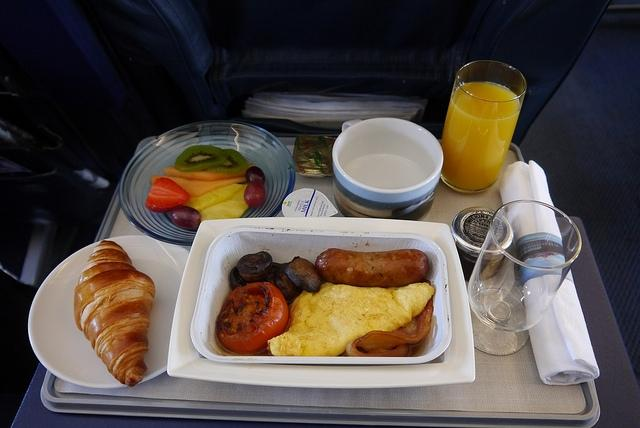grape: (170, 205, 202, 229), (244, 178, 266, 208), (246, 166, 266, 185)
kiwi: (174, 145, 227, 173), (202, 148, 248, 174)
strawberry: (146, 178, 190, 212)
tomato: (216, 282, 288, 354)
